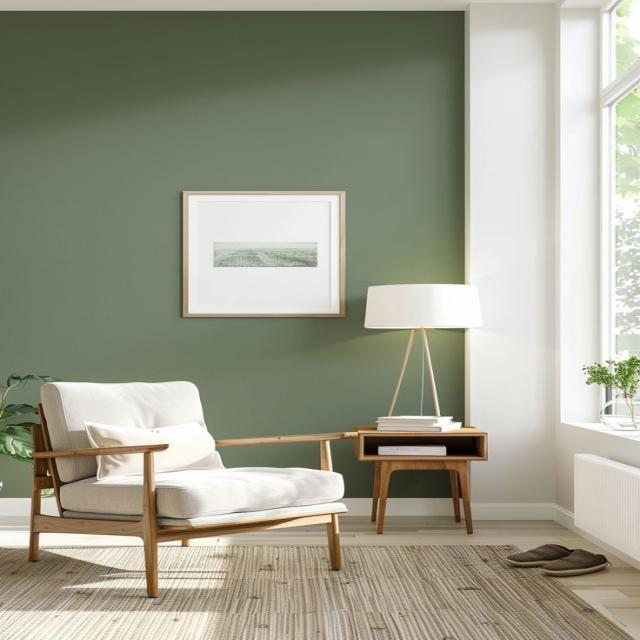obstacle: (27, 379, 350, 598), (353, 424, 488, 534)
